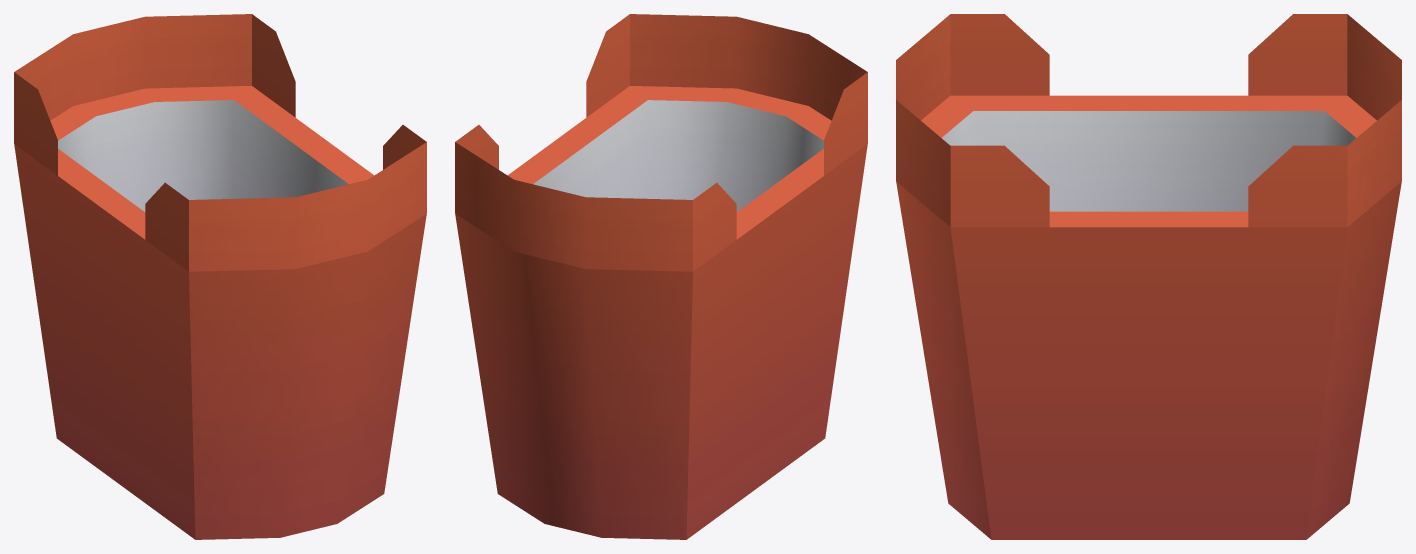
Rendered from kenney-food-fries-empty.glb.
The picture shows the model from 3 angles, left to right: view 1: azimuth 30°, elevation 25°; view 2: azimuth 150°, elevation 25°; view 3: azimuth 270°, elevation 25°; orthographic projection. The views are drawn at different scales.
Visible parts, largest first — view 1: fries-empty; view 2: fries-empty; view 3: fries-empty.
Boxes of the visible parts, box(x1,y1,x2,y2) form: fries-empty: box(14, 14, 426, 539); fries-empty: box(455, 14, 867, 539); fries-empty: box(896, 14, 1401, 539).
Size of the model in its own units: 0.1635 by 0.236 by 0.2653.
Materials: 1 (1 with a texture image).
